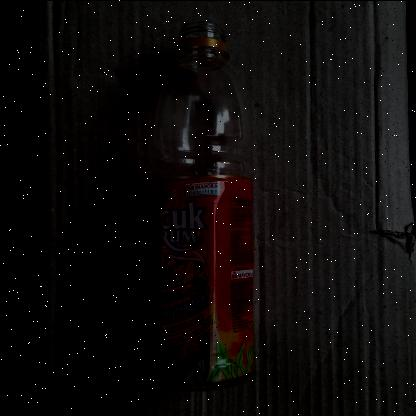Plastic Bottle: (134, 0, 284, 404)
